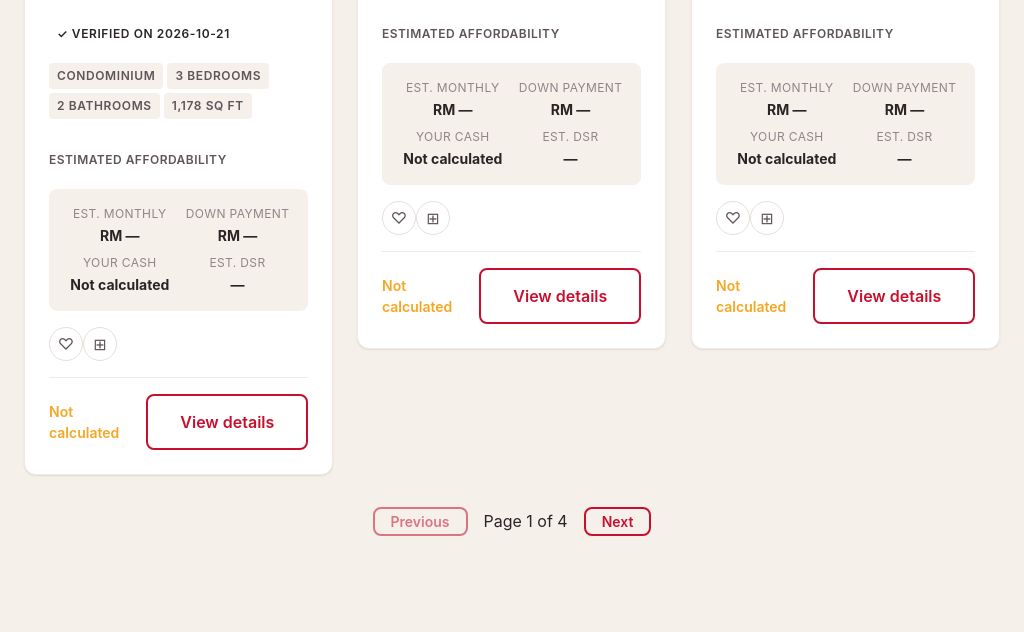
PropertyExplorer pagination and scroll preservation › exposes all 30 properties across pagination with 9 items per page (4 pages)
The width and height of the screenshot is (1024, 632).
(page scrolled)
Check: the text "Page 1 of 4" is shown, box [484,509,568,533]
// Navigate to page 2
Click the button "Next" at (618,521), box [584,507,652,536]
(page scrolled)
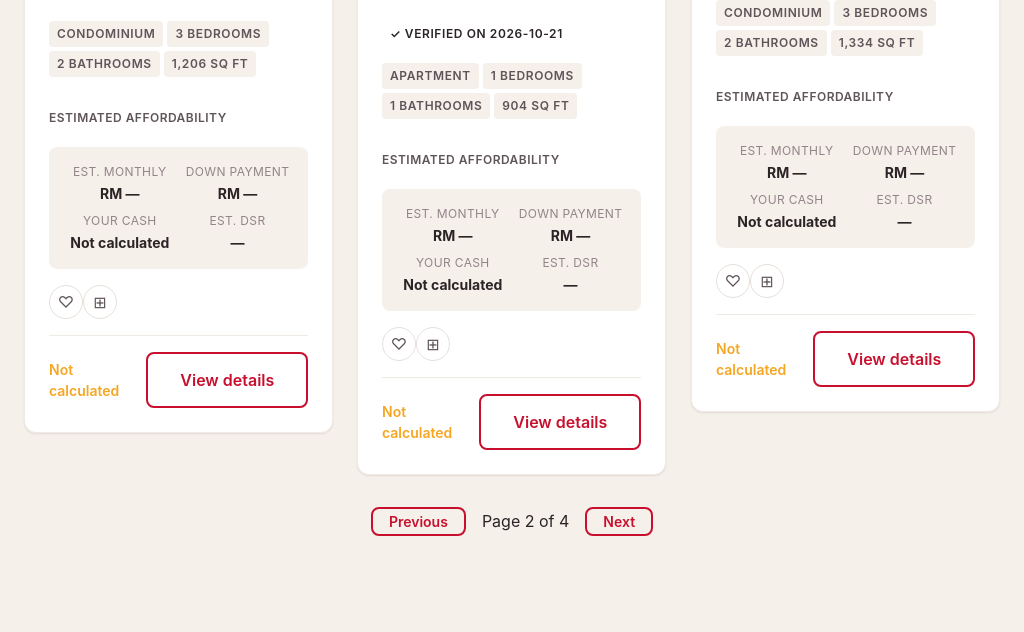
Check: the text "Page 2 of 4" is shown, box [482,509,569,533]
// Navigate to page 4
Click the button "Next" at (619,521), box [585,507,653,536]
(page scrolled)
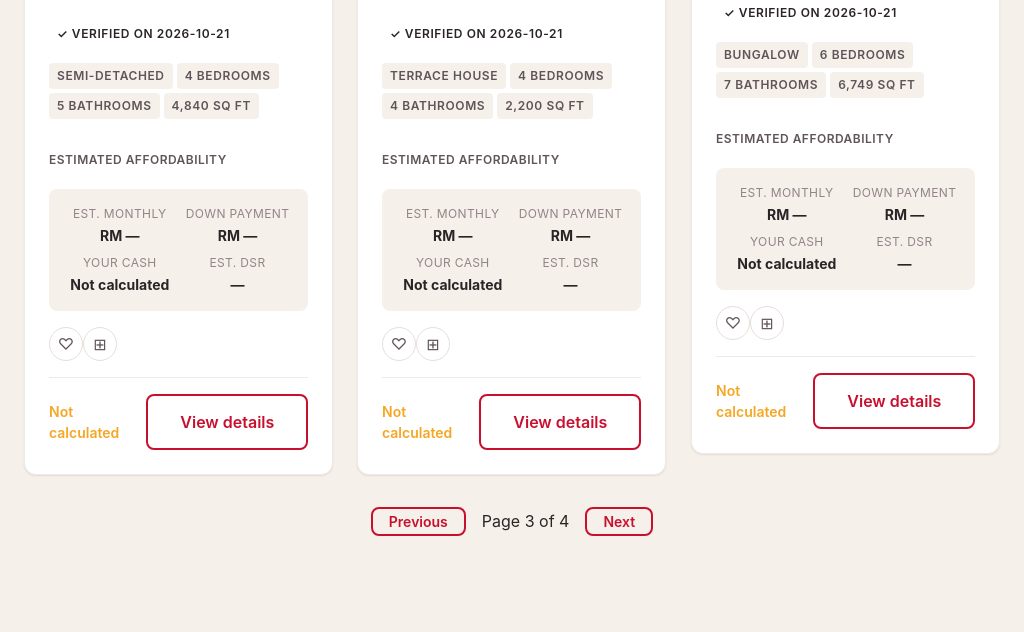
Check: the text "Page 3 of 4" is shown, box [482,509,569,533]
Click the button "Next" at (619,521), box [585,507,653,536]
(page scrolled)
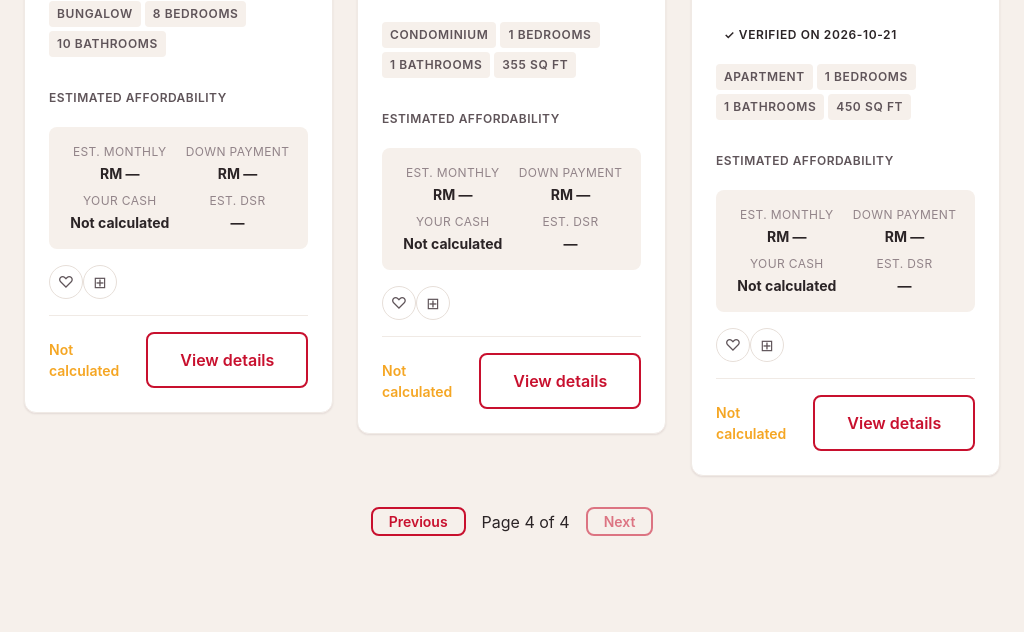
Check: the text "Page 4 of 4" is shown, box [482,510,570,534]
